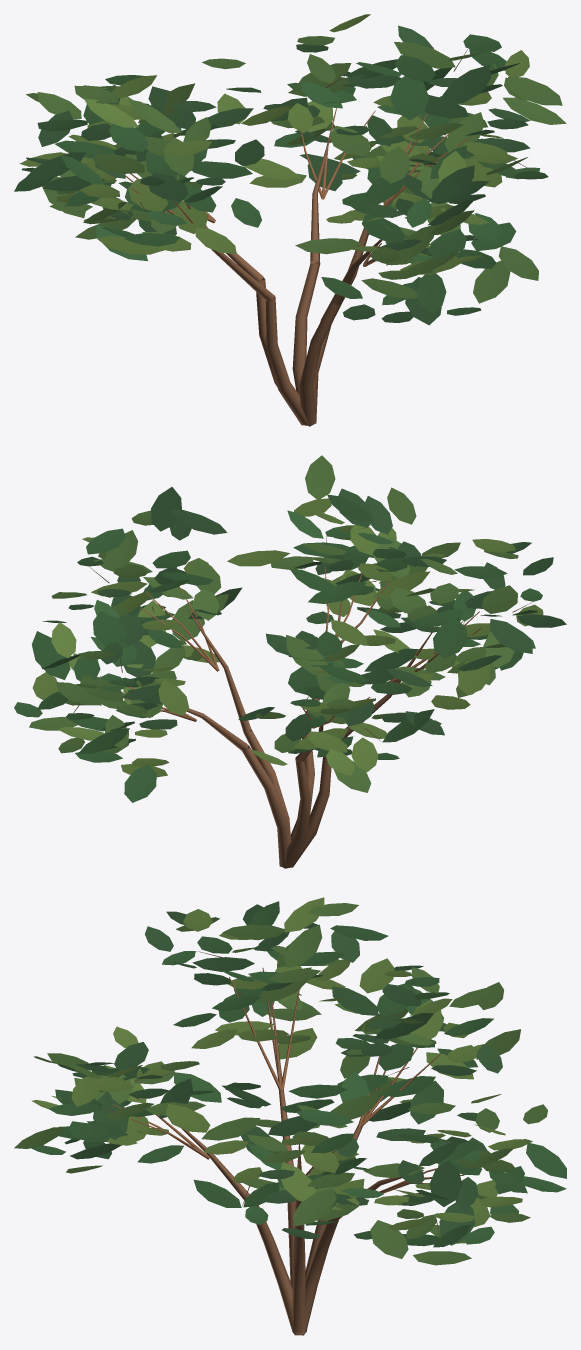
The model's file is ArbousierBuisson_0_Low.fbx.
3 renders of one model, top to bottom at view 1: azimuth 30°, elevation 25°; view 2: azimuth 150°, elevation 25°; view 3: azimuth 270°, elevation 25°, orthographic. The views are drawn at different scales.
Visible parts, largest first — view 1: ArbousierBuisson_0_Low; view 2: ArbousierBuisson_0_Low; view 3: ArbousierBuisson_0_Low.
Boxes of the visible parts, x1,y1,x2,y2 form: ArbousierBuisson_0_Low: (14, 14, 566, 426); ArbousierBuisson_0_Low: (14, 455, 566, 868); ArbousierBuisson_0_Low: (14, 897, 566, 1335).
Size of the model in its own units: 317 by 204 by 301.
